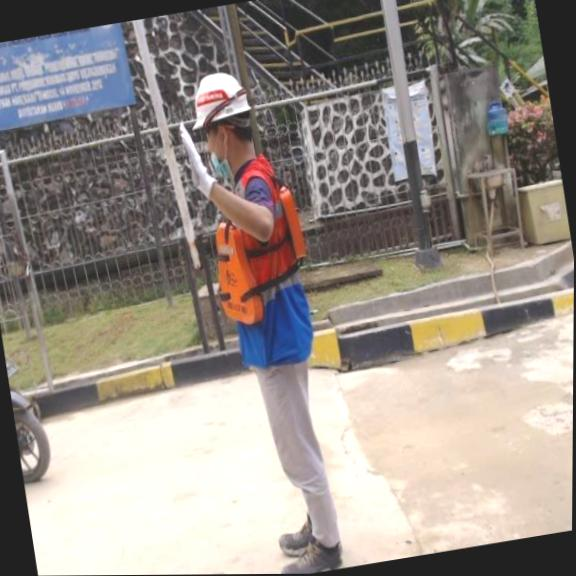safety_vest: (202, 185, 318, 325)
